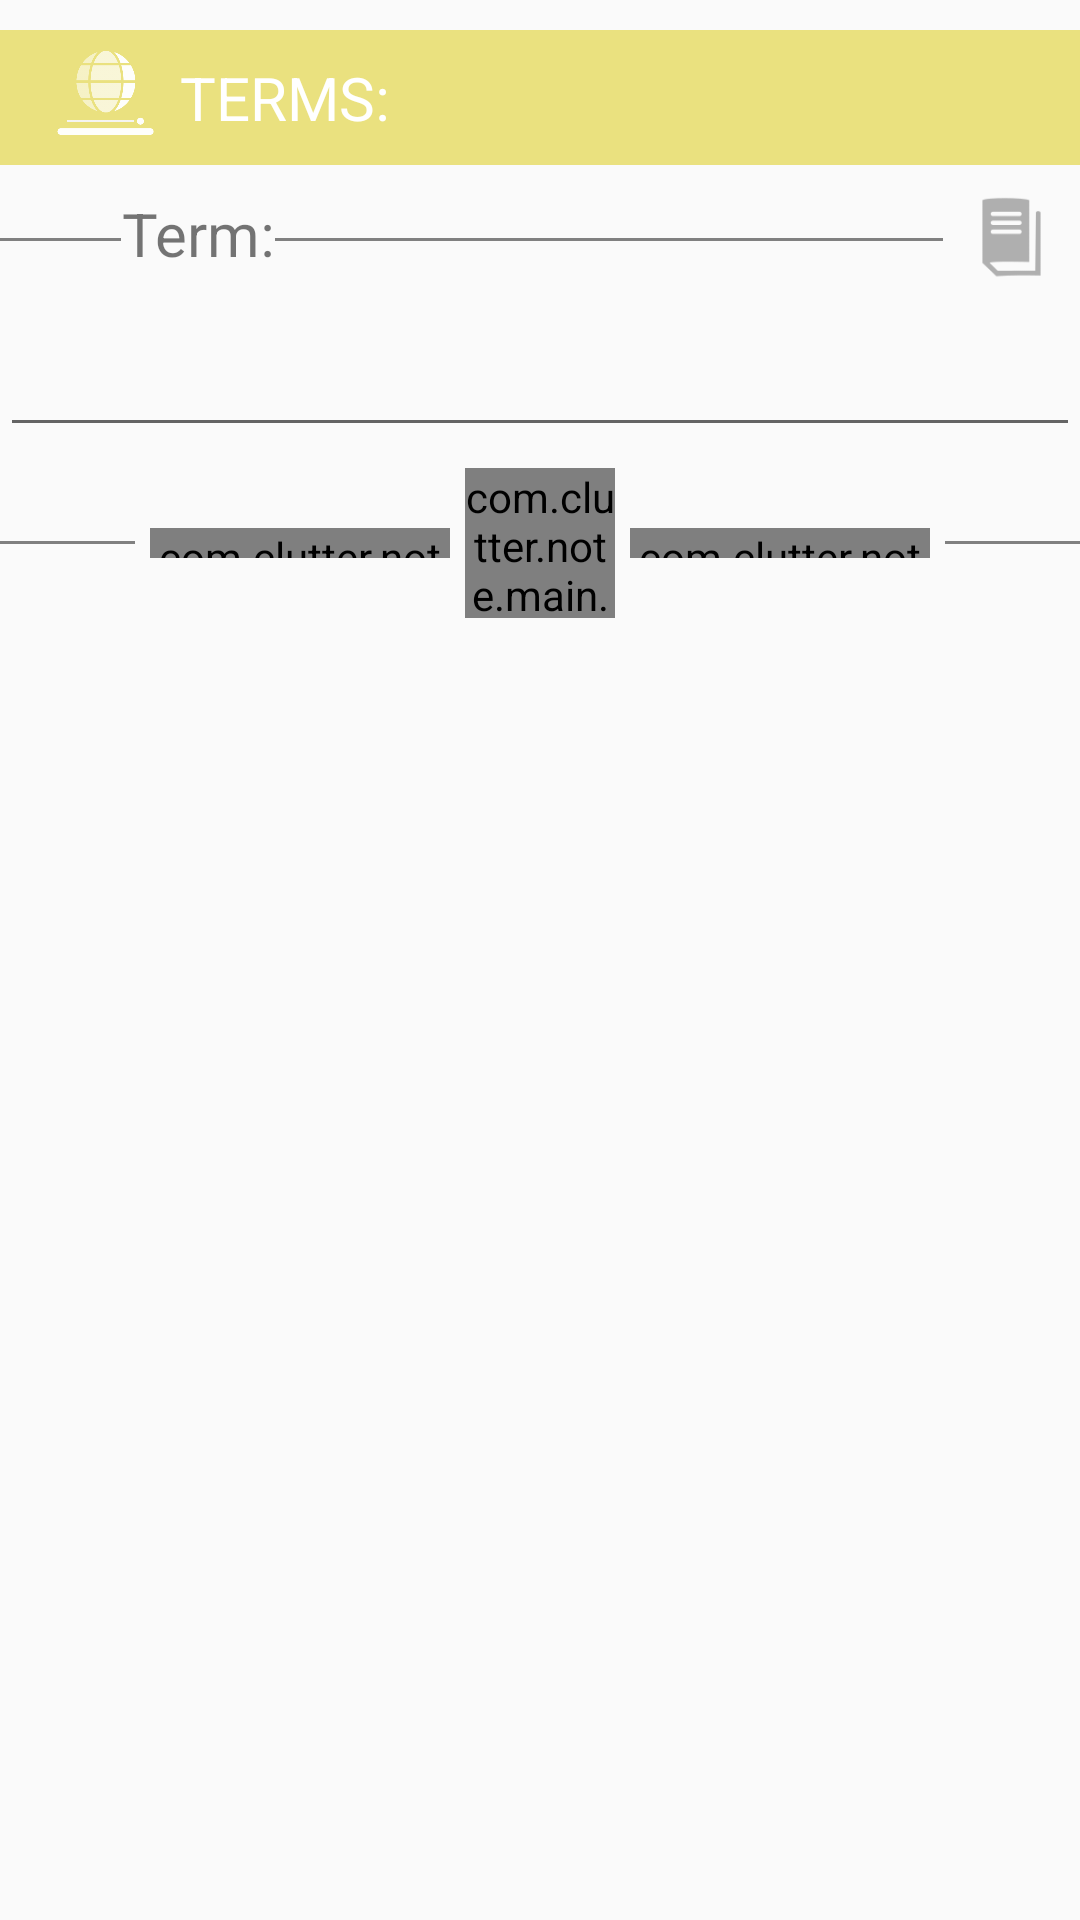

Screen size 1080px x 1920px. Icon name, then its box in pixels as (x1, y1, x2, y2):
book deselect: (982, 198, 1041, 276)
